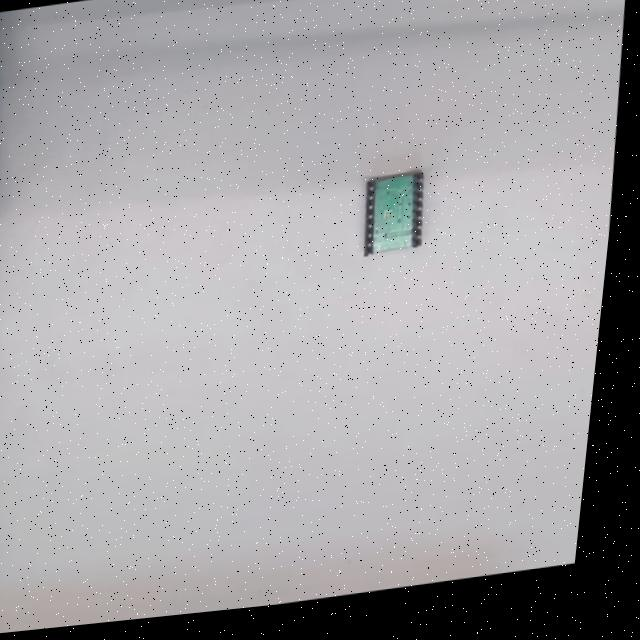Chip: (355, 166, 430, 260)
